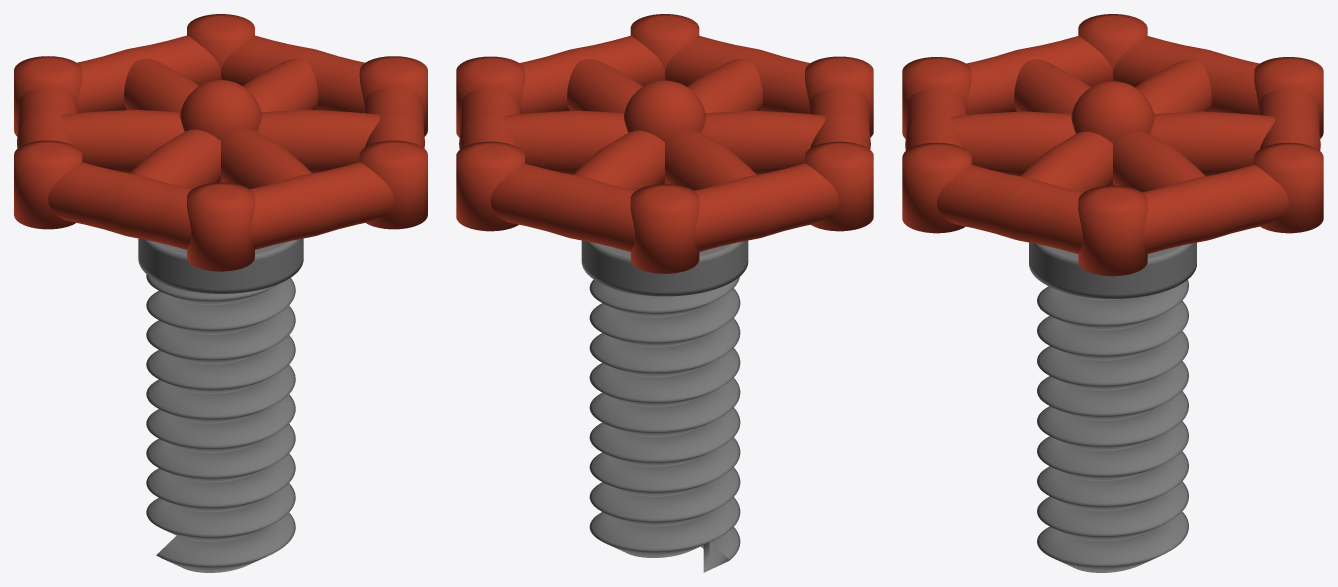
The model's file is Valve.fbx.
3 views of the same model, side by side, from view 1: azimuth 30°, elevation 25°; view 2: azimuth 150°, elevation 25°; view 3: azimuth 270°, elevation 25° (orthographic).
Visible parts, largest first — view 1: Valve Head Outline, Screw, Cylinder.003; view 2: Valve Head Outline, Screw, Cylinder.003; view 3: Valve Head Outline, Screw, Cylinder.003.
Part boxes in pixels (x1,y1,x2,y2): Valve Head Outline: (14, 14, 427, 271); Screw: (146, 274, 295, 572); Cylinder.003: (138, 238, 303, 293); Valve Head Outline: (456, 14, 873, 273); Screw: (589, 277, 740, 572); Cylinder.003: (581, 240, 748, 296); Valve Head Outline: (902, 14, 1323, 276); Screw: (1037, 280, 1188, 572); Cylinder.003: (1029, 242, 1196, 298).
Bounding box in the file's own units: 430 × 381 × 482.
